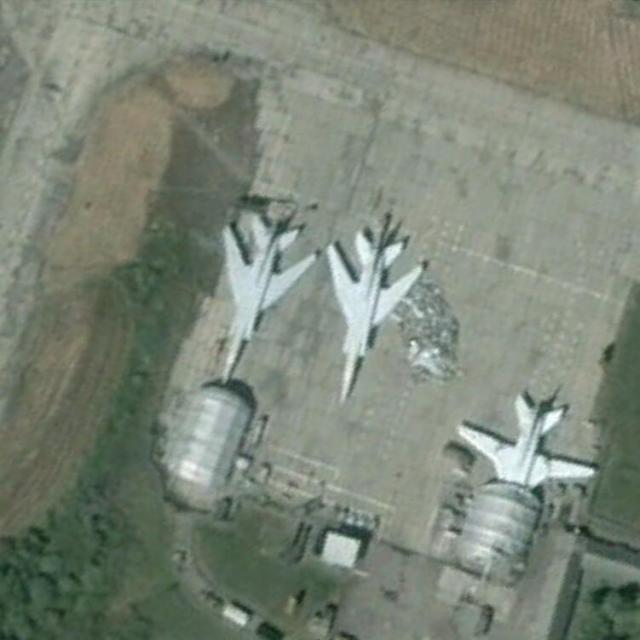fighter jet: (205, 210, 314, 377), (326, 236, 428, 396), (456, 392, 598, 495)
